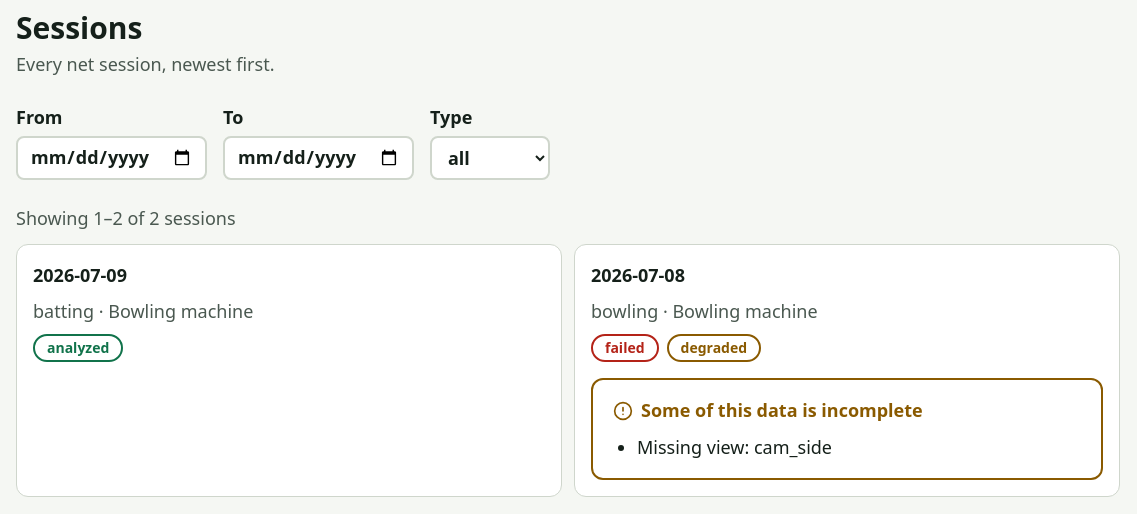
Test: SessionListClient (US-B5 AC: filterable by date/type) › narrows by type client-side (the API has no type param)
Expected: the text "Showing 1–2 of 2 sessions" is shown, [16,206,236,230]
Select "bowling" in the dropdown labelled "Type" at (490, 158), box [430,136,550,180]
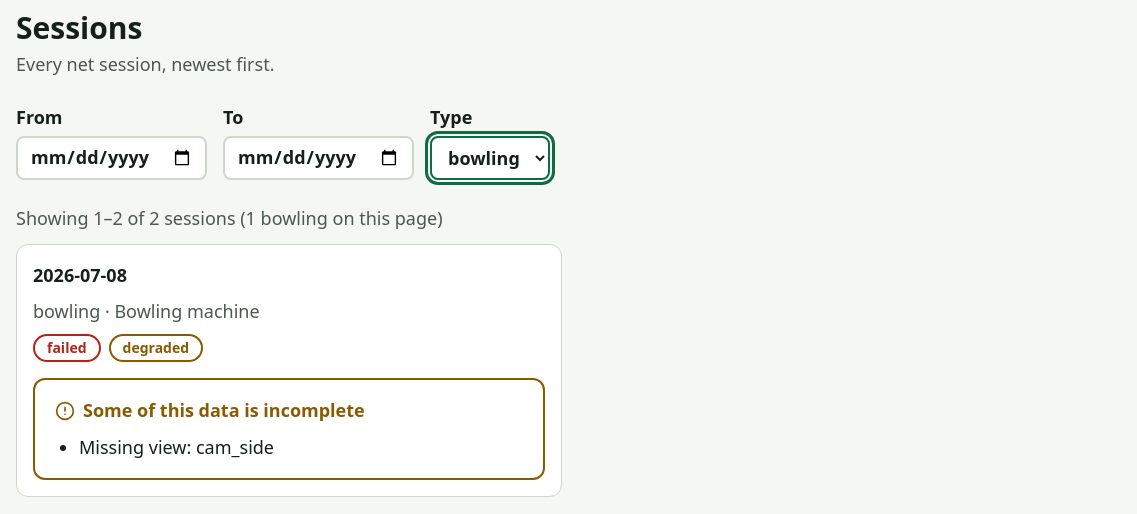
Result: the text with test id "sessions-count" reads "Showing 1–2 of 2 sessions (1 bowling on this page)" at [16,206,443,230]
Select "mixed" in the dropdown labelled "Type" at (490, 158), box [430,136,550,180]
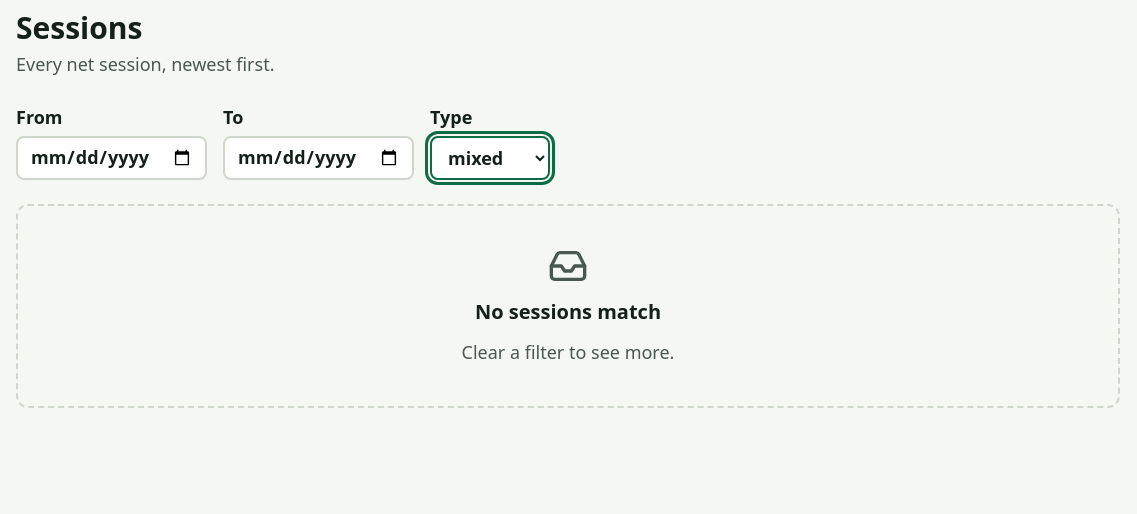
Result: the heading "No sessions match" is shown at [475,298,661,326]
